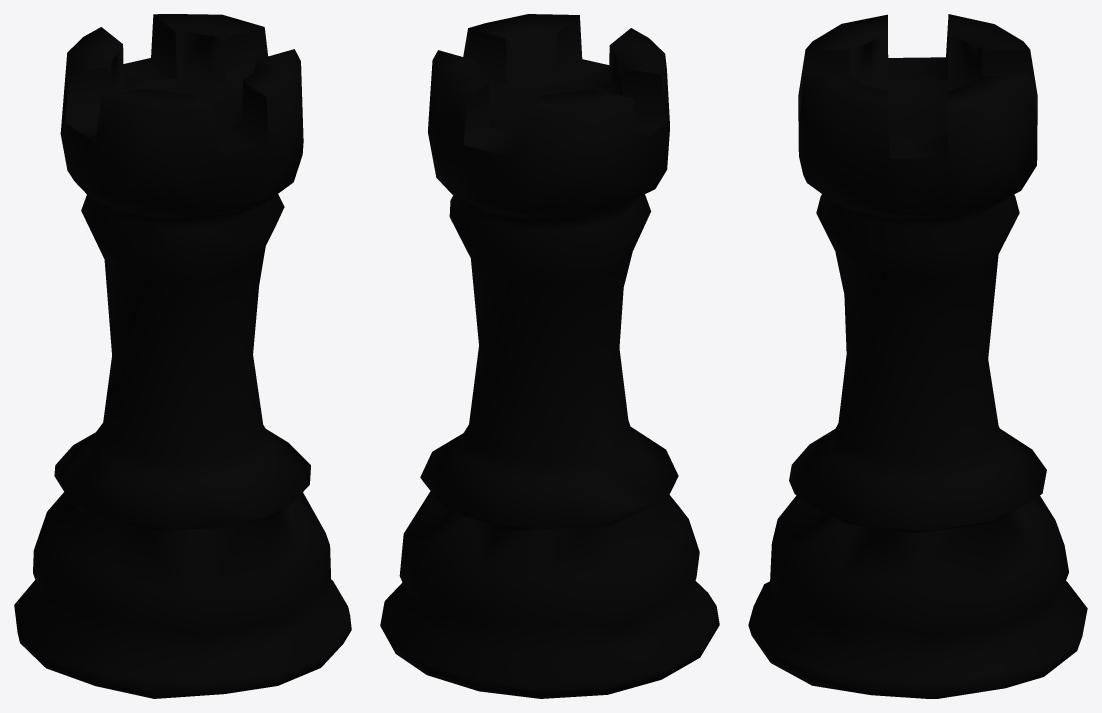
File: ChessRook.fbx
3 views of the same model, side by side, from view 1: azimuth 30°, elevation 25°; view 2: azimuth 150°, elevation 25°; view 3: azimuth 270°, elevation 25° (orthographic).
Visible parts, largest first — view 1: Rook.001; view 2: Rook.001; view 3: Rook.001.
Part boxes in pixels (x1,y1,x2,y2): Rook.001: (14,14,351,698); Rook.001: (380,14,719,698); Rook.001: (748,14,1087,698).
Size of the model in its own units: 99.91 by 186 by 100.
Materials: 1 (1 with a texture image).
